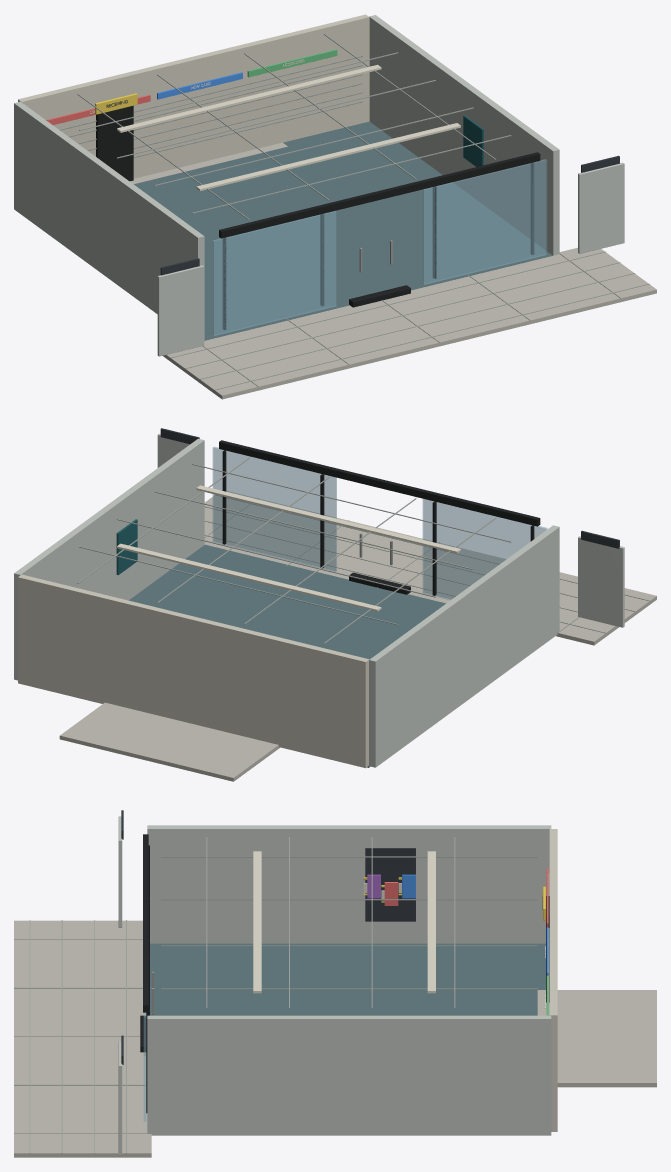
File: mall_store_shell.glb
3 views of the same model, one above another, from view 1: azimuth 30°, elevation 25°; view 2: azimuth 150°, elevation 25°; view 3: azimuth 270°, elevation 25° (orthographic). The views are drawn at different scales.
Parts seen in each view (by area): view 1: store_low_pile_carpet_floor, mall_concourse_tile_floor, rear_slatwall_game_wall, right_wall_light_retail, left_wall_light_retail, storefront_glass_right_bay, storefront_glass_left_bay, left_neighbor_lease_hint, right_neighbor_lease_hint, storefront_upper_frame, backroom_door_frame, ceiling_light_bar_rear (+16 smaller); view 2: rear_slatwall_game_wall, left_wall_light_retail, store_low_pile_carpet_floor, mall_concourse_tile_floor, right_wall_light_retail, storefront_glass_right_bay, backroom_sealed_floor, storefront_glass_left_bay, left_neighbor_lease_hint, storefront_upper_frame, ceiling_light_bar_rear, ceiling_light_bar_front (+7 smaller); view 3: right_wall_light_retail, left_wall_light_retail, mall_concourse_tile_floor, store_low_pile_carpet_floor, backroom_sealed_floor, left_wall_poster_column_backer, rear_slatwall_game_wall, ceiling_light_bar_front, ceiling_light_bar_rear, storefront_upper_frame, ceiling_panel_seam_-3.4, ceiling_panel_seam_3.4 (+4 smaller).
Boxes of the visible parts, box(x1,y1,x2,y2) form: store_low_pile_carpet_floor: box(134, 121, 552, 340); mall_concourse_tile_floor: box(163, 247, 656, 399); rear_slatwall_game_wall: box(18, 14, 369, 178); right_wall_light_retail: box(369, 15, 559, 255); left_wall_light_retail: box(14, 101, 204, 340); storefront_glass_right_bay: box(422, 159, 547, 284); storefront_glass_left_bay: box(212, 211, 336, 335); left_neighbor_lease_hint: box(157, 265, 204, 356); right_neighbor_lease_hint: box(578, 162, 624, 253); storefront_upper_frame: box(219, 152, 540, 238); backroom_door_frame: box(96, 105, 133, 181); ceiling_light_bar_rear: box(117, 64, 381, 132); rear_slatwall_game_wall: box(18, 574, 369, 768); left_wall_light_retail: box(369, 525, 559, 767); store_low_pile_carpet_floor: box(129, 544, 445, 767); mall_concourse_tile_floor: box(204, 490, 656, 645); right_wall_light_retail: box(14, 438, 204, 680); storefront_glass_right_bay: box(212, 446, 336, 571); backroom_sealed_floor: box(59, 702, 280, 781); storefront_glass_left_bay: box(422, 499, 547, 600); left_neighbor_lease_hint: box(578, 536, 624, 627); storefront_upper_frame: box(219, 440, 540, 526); ceiling_light_bar_rear: box(117, 543, 381, 611); ceiling_light_bar_front: box(196, 485, 460, 553); right_wall_light_retail: box(147, 1015, 551, 1135); left_wall_light_retail: box(147, 825, 551, 943); mall_concourse_tile_floor: box(14, 920, 151, 1157); store_low_pile_carpet_floor: box(150, 943, 545, 1015); backroom_sealed_floor: box(537, 990, 656, 1087); left_wall_poster_column_backer: box(365, 848, 415, 921); rear_slatwall_game_wall: box(549, 829, 557, 1131); ceiling_light_bar_front: box(253, 851, 261, 993); ceiling_light_bar_rear: box(427, 851, 435, 993); storefront_upper_frame: box(143, 834, 148, 1012); ceiling_panel_seam_-3.4: box(161, 856, 537, 857); ceiling_panel_seam_3.4: box(161, 988, 537, 989).
Size of the model in its own units: 12.85 by 2.92 by 14.
